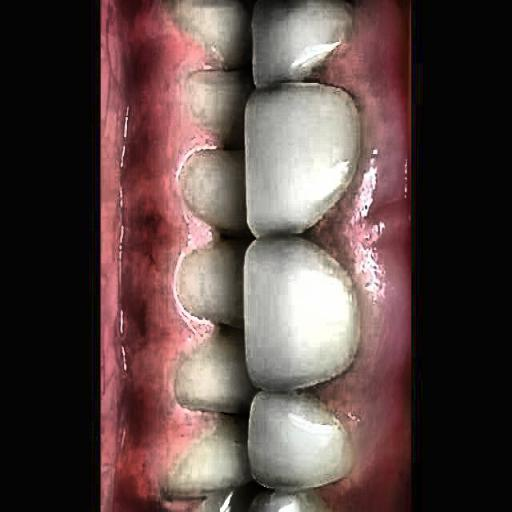Healthy: (138, 0, 376, 409)
